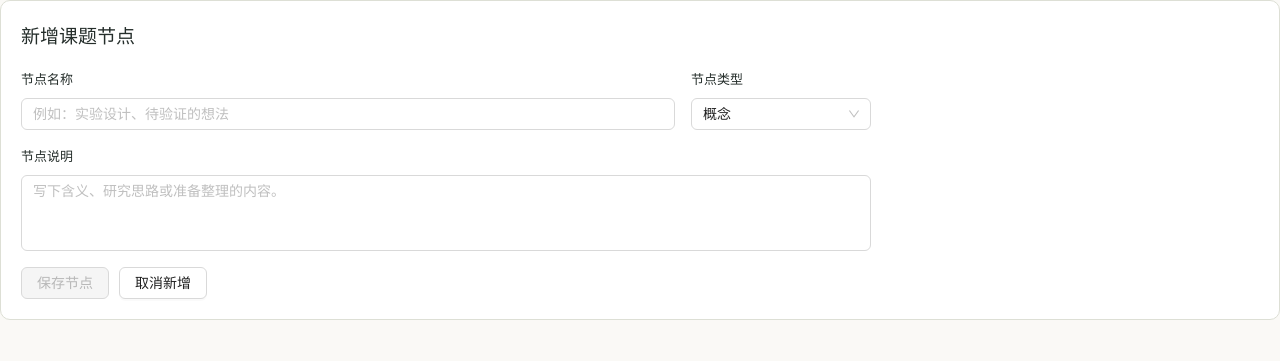
Test: manual creation is explicit, scoped, and retains input when persistence fails
This screenshot has width=1280, height=361.
Step 1. Type "待验证假设" into the field named "新节点名称" → (348, 114), box top-left (21, 98), bottom-right (675, 130)
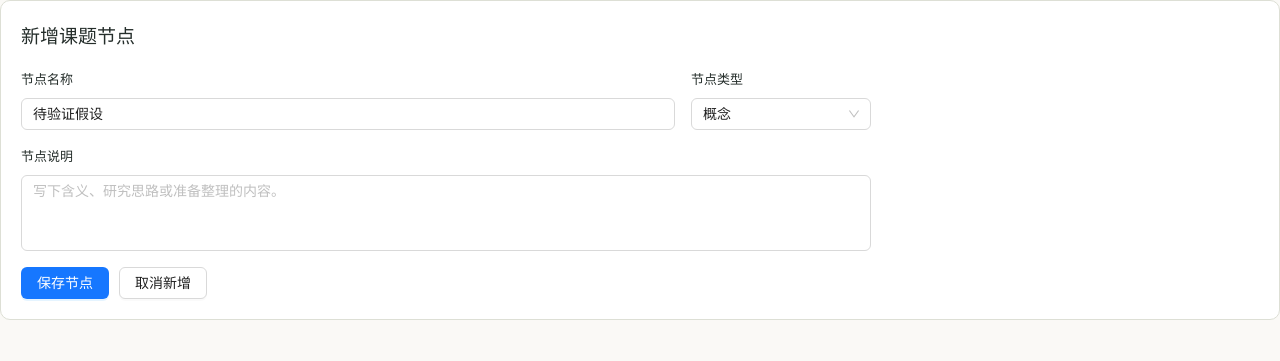
Step 2. Type "先记录自己的研究想法。" into the text box named "新节点说明" → (446, 213), box top-left (21, 175), bottom-right (871, 251)
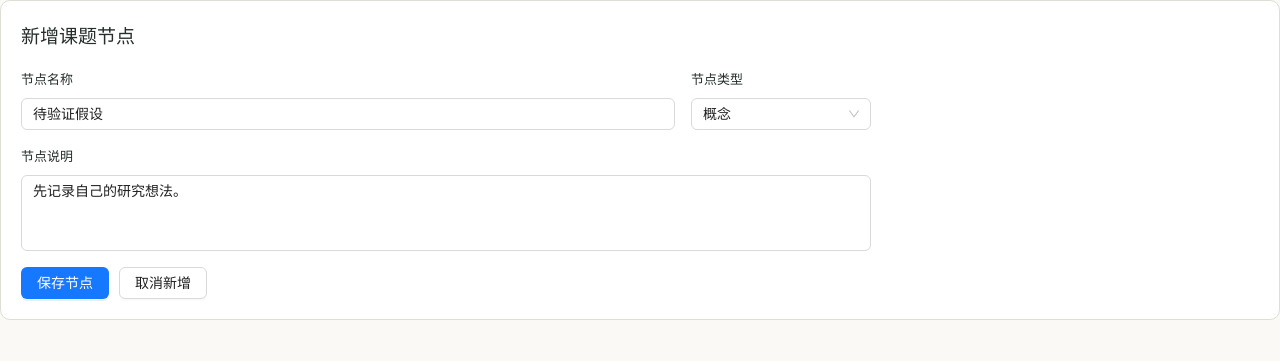
Step 3. Click the button "保存节点" → (65, 283), box top-left (21, 267), bottom-right (109, 299)
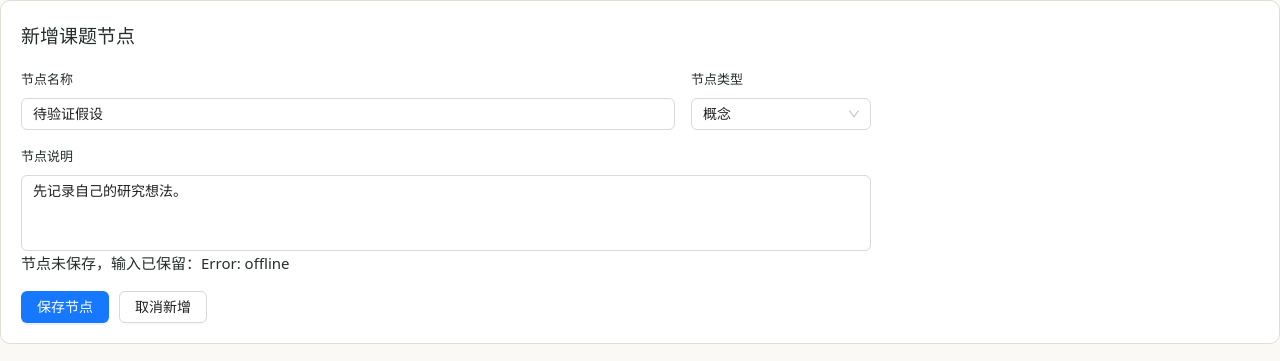
Expected: the message shows "输入已保留", top-left (21, 253), bottom-right (290, 273)
